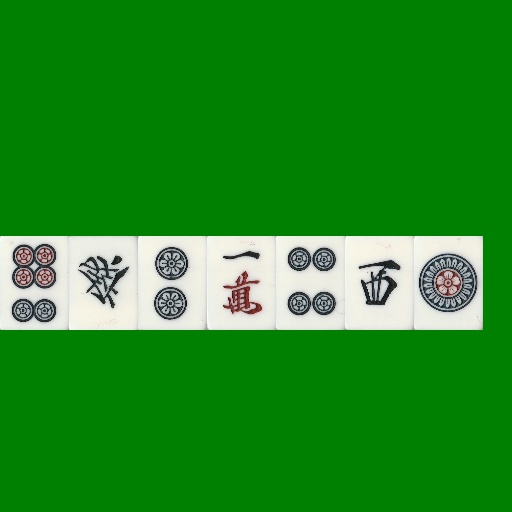1m: (207, 236, 276, 330)
1p: (414, 236, 483, 330)
2p: (138, 236, 207, 330)
4p: (276, 236, 345, 330)
6p: (0, 236, 69, 330)
hatsu: (69, 236, 138, 330)
west: (345, 236, 414, 330)
